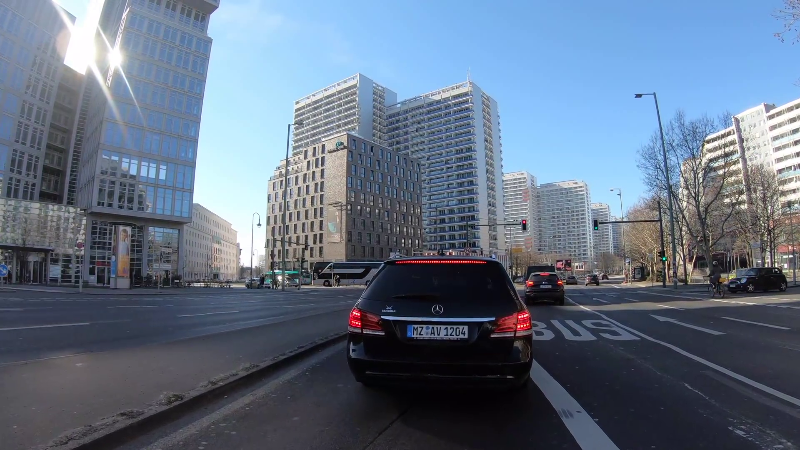Plate: (405, 324, 470, 341)
